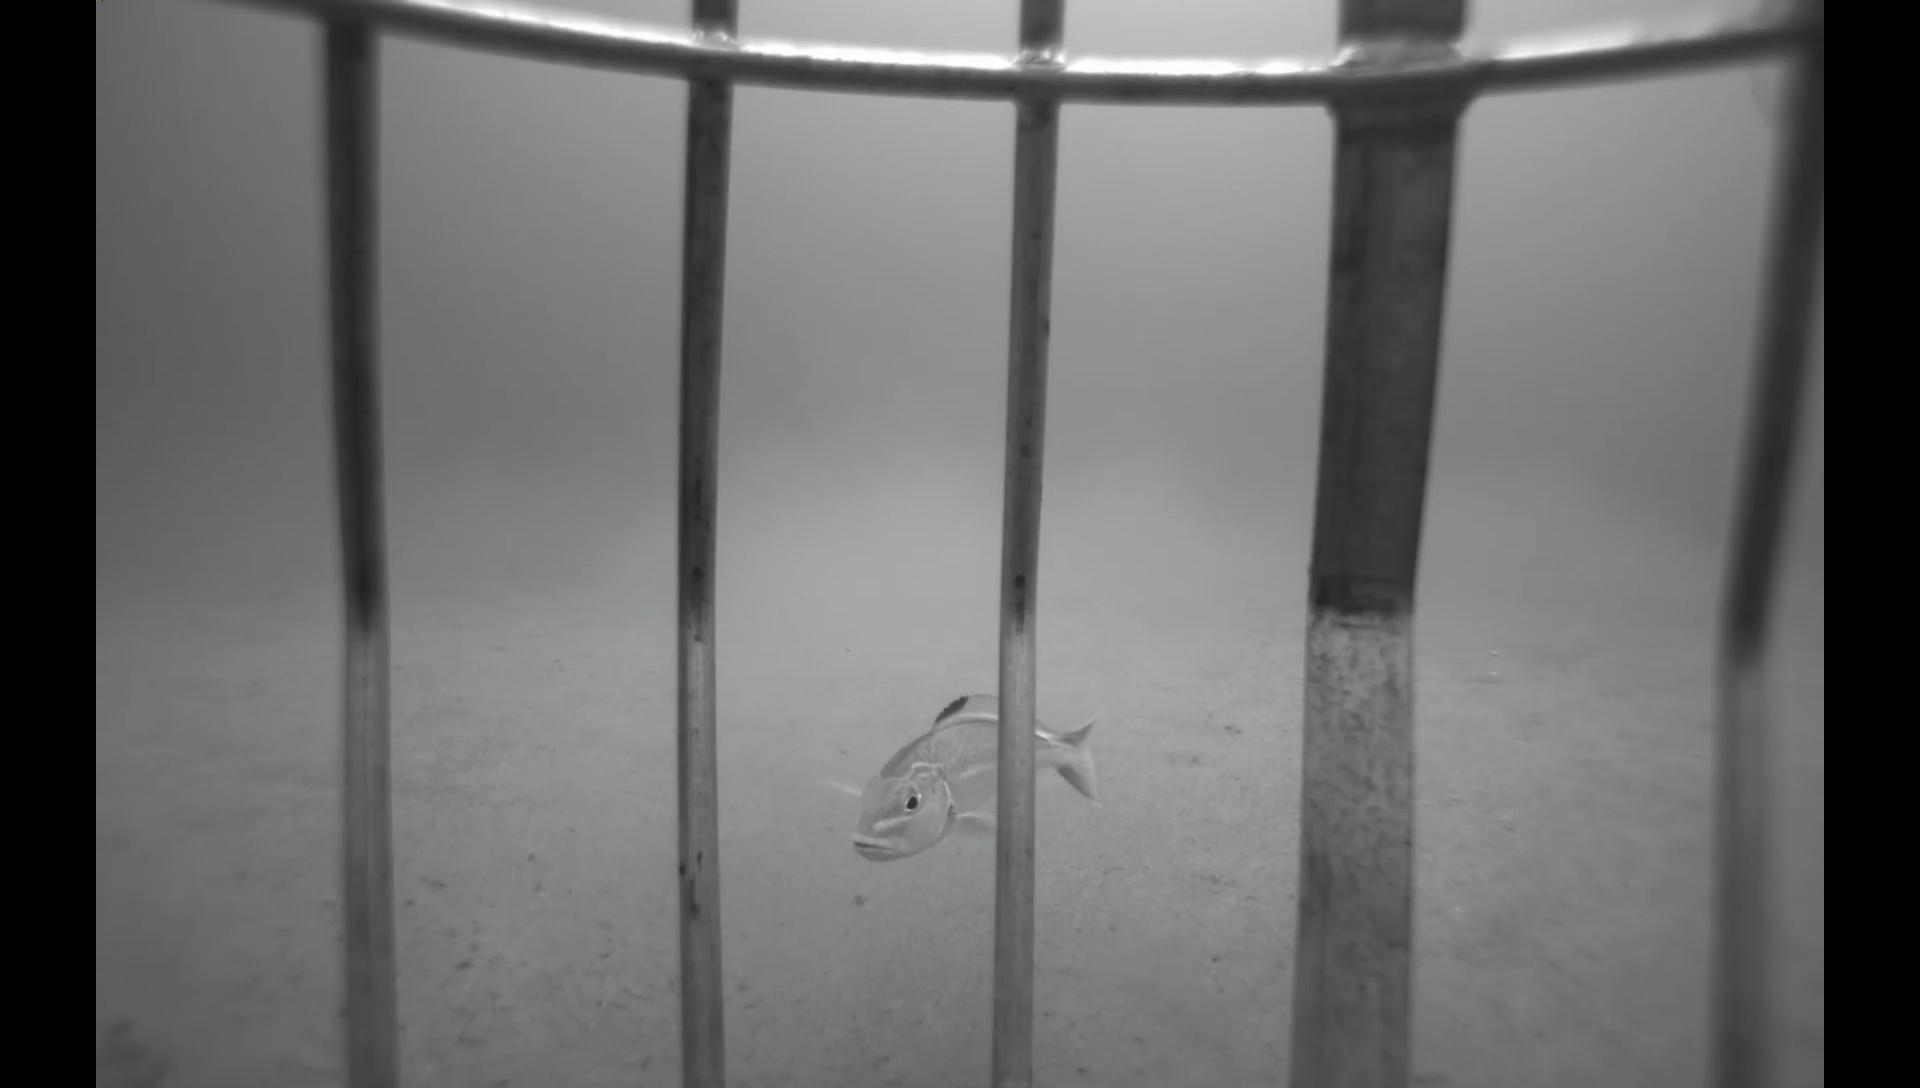CAULOLATILUSCYANOPS-170070101: (814, 687, 1112, 880)
SYACIUM-183011000: (1141, 699, 1247, 742)
